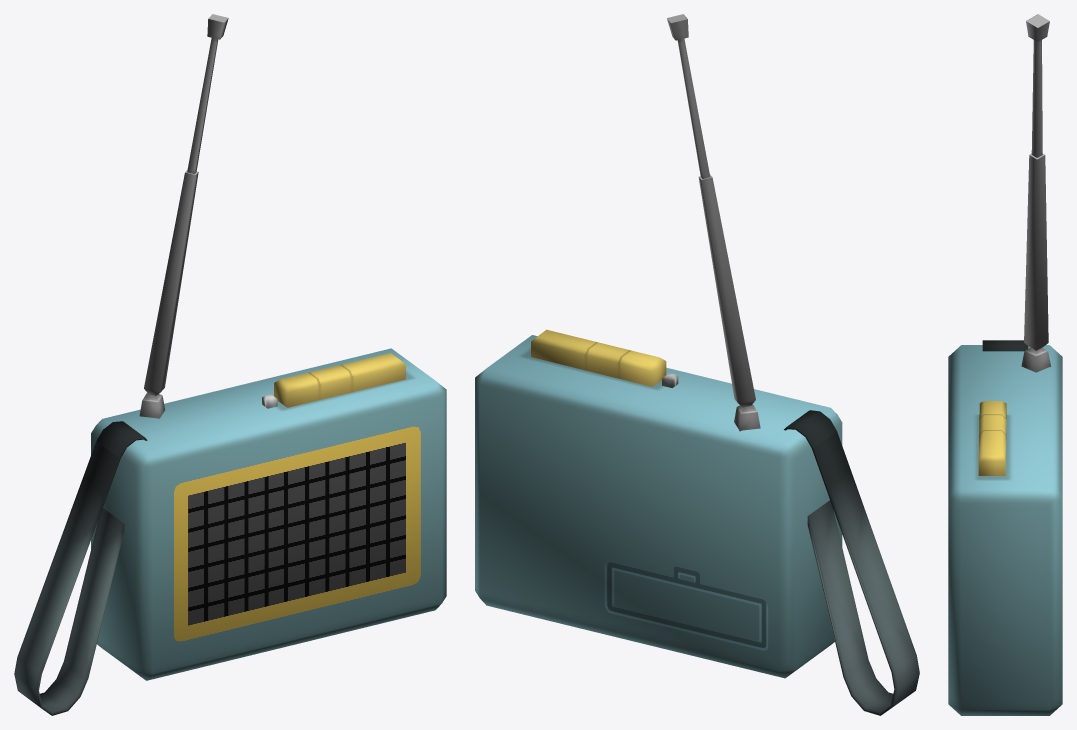
The model's file is mesh_Prop_Radio1.fbx.
3 views of the same model, side by side, from view 1: azimuth 30°, elevation 25°; view 2: azimuth 150°, elevation 25°; view 3: azimuth 270°, elevation 25° (orthographic). The views are drawn at different scales.
Parts seen in each view (by area): view 1: Prop_Radio1, Prop_Radio1_Band, Prop_Radio_antenna_02; view 2: Prop_Radio1, Prop_Radio1_Band, Prop_Radio_antenna_02; view 3: Prop_Radio1, Prop_Radio_antenna_02, Prop_Radio1_Band.
Boxes of the visible parts, x1,y1,x2,y2 form: Prop_Radio1: (91,170,446,680); Prop_Radio1_Band: (14,421,147,715); Prop_Radio_antenna_02: (187,14,228,173); Prop_Radio1: (475,174,842,678); Prop_Radio1_Band: (784,410,919,715); Prop_Radio_antenna_02: (667,14,710,178); Prop_Radio1: (948,153,1062,715); Prop_Radio_antenna_02: (1026,14,1049,157); Prop_Radio1_Band: (982,340,1028,351).
Size of the model in its own units: 17.92 by 27.24 by 4.44.
